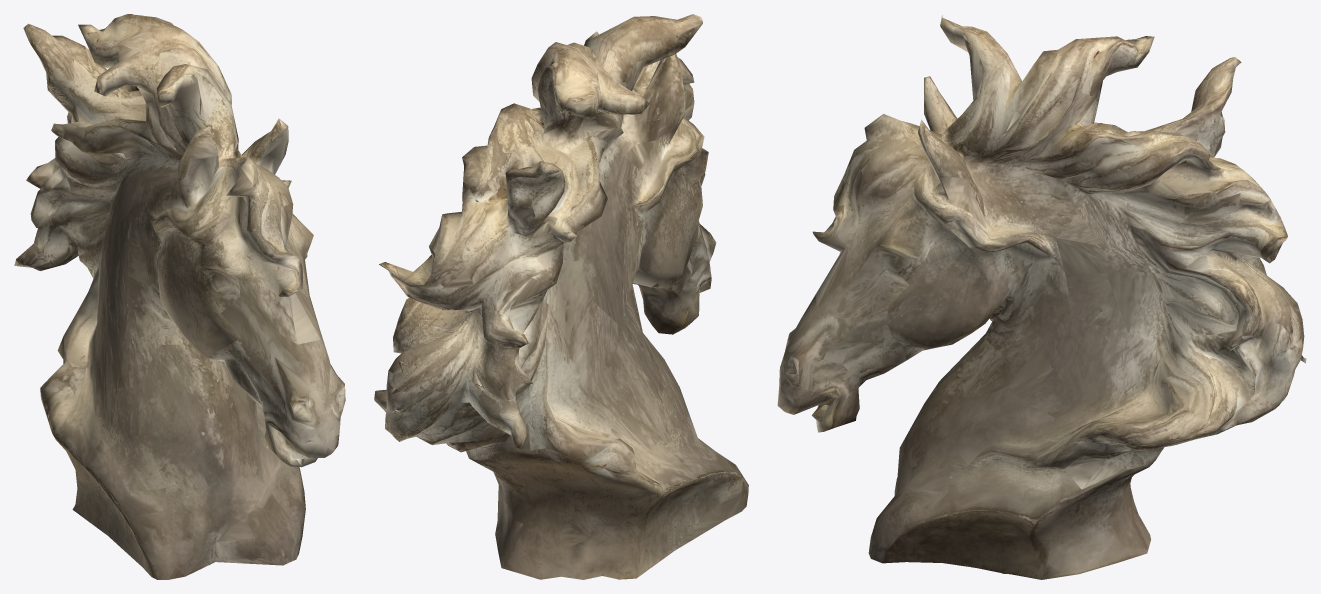
File: pedestalhorse.glb
3 views of the same model, side by side, from view 1: azimuth 30°, elevation 25°; view 2: azimuth 150°, elevation 25°; view 3: azimuth 270°, elevation 25° (orthographic). The views are drawn at different scales.
Visible parts, largest first — view 1: Decorative Horse Sculpture; view 2: Decorative Horse Sculpture; view 3: Decorative Horse Sculpture.
Boxes of the visible parts, <box> form: Decorative Horse Sculpture: <box>14,14,345,579</box>; Decorative Horse Sculpture: <box>374,14,748,579</box>; Decorative Horse Sculpture: <box>777,15,1306,579</box>.
Size of the model in its own units: 0.1205 by 0.2468 by 0.2368.
1 material, 1 textured.
